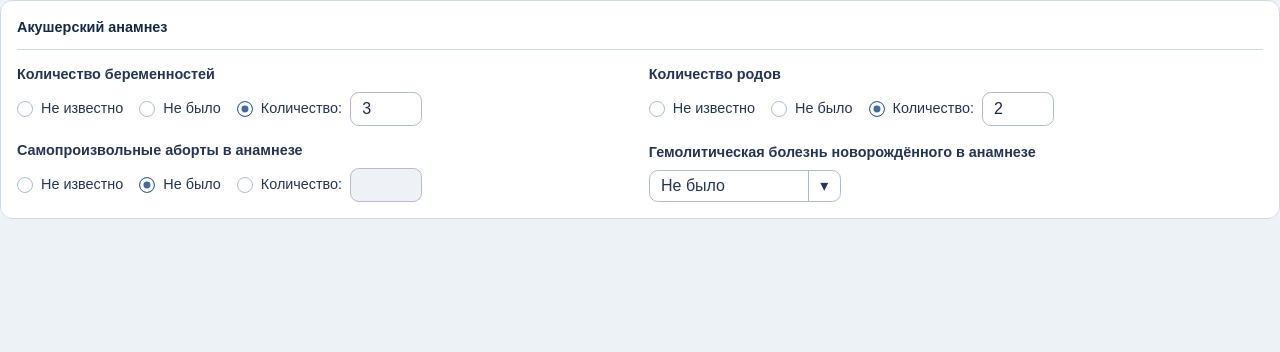
Test: shows a saved Нет choice as Не было without rewriting the saved data
Click the button with aria-label "Гемолитическая болезнь новорождённого в анамнезе". click: (745, 186)
box: 649,170 -> 841,202
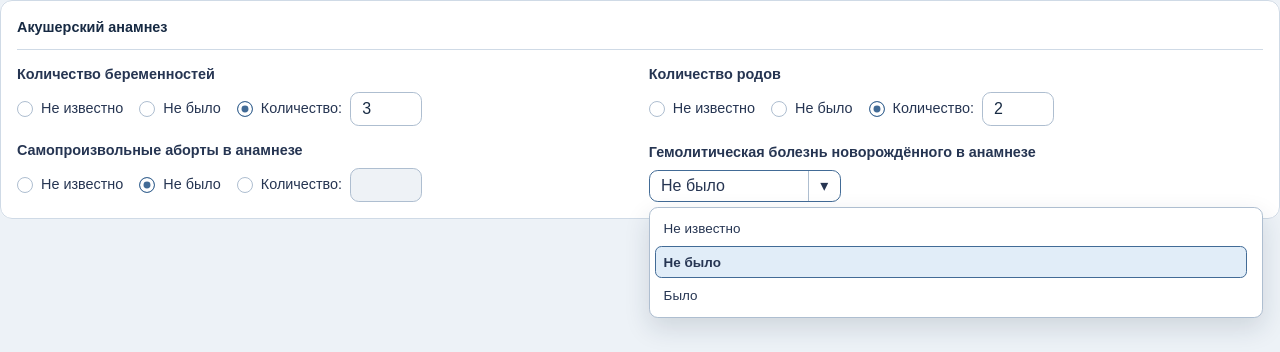
Expected: the option "Не было" is shown, 655,246 -> 1247,278
